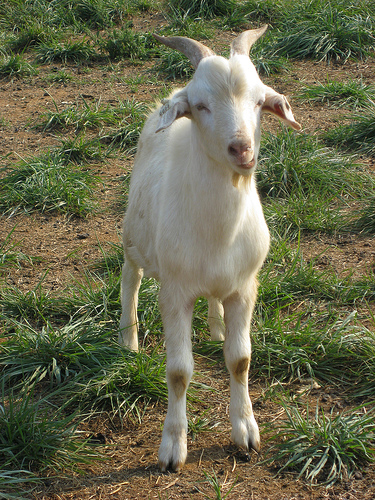goat: (115, 22, 303, 474)
